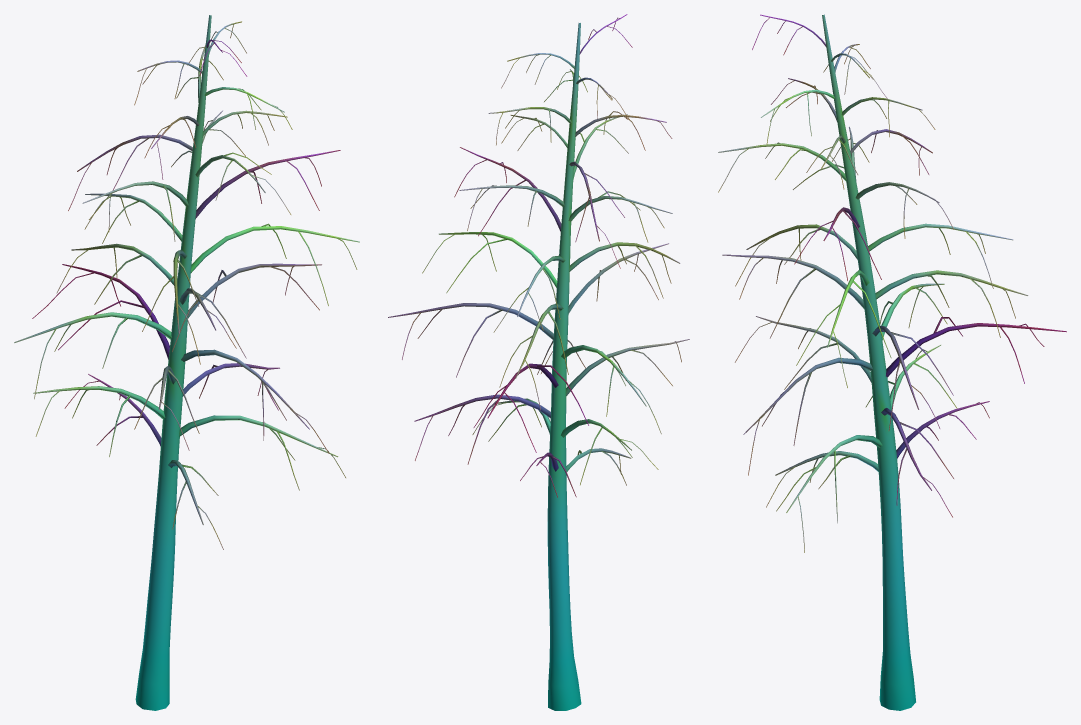
Rendered from birch-grove-b.glb.
The picture shows the model from 3 angles, left to right: view 1: azimuth 30°, elevation 25°; view 2: azimuth 150°, elevation 25°; view 3: azimuth 270°, elevation 25°; orthographic projection. The views are drawn at different scales.
Parts seen in each view (by area): view 1: bark; view 2: bark; view 3: bark.
Boxes of the visible parts, left/top/right/bottom form: bark: left=14, top=15, right=359, bottom=710; bark: left=388, top=14, right=689, bottom=710; bark: left=718, top=14, right=1066, bottom=710.
Size of the model in its own units: 5.09 by 11.74 by 5.31.
